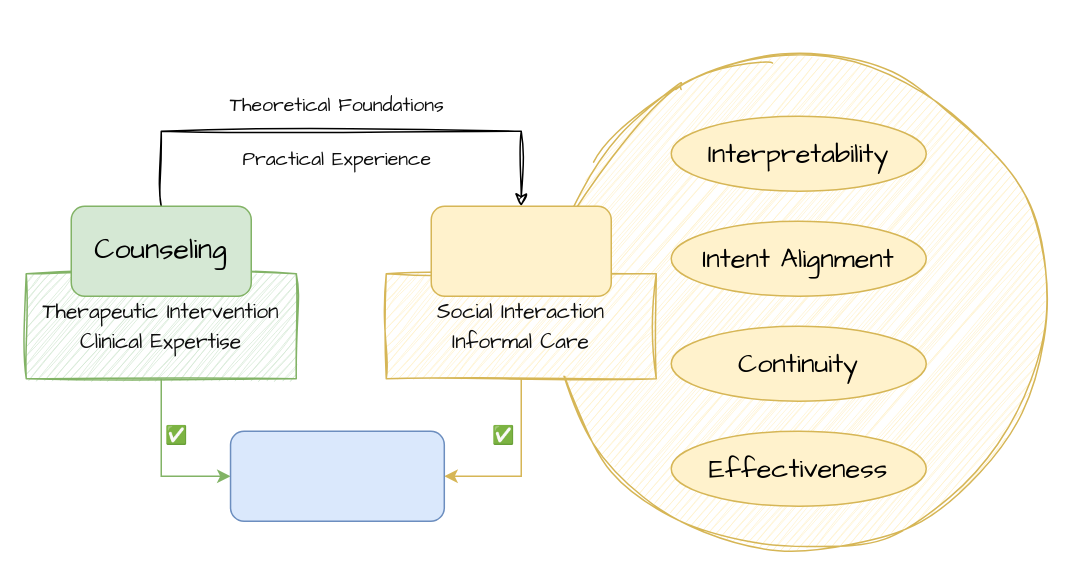
This 1073x578 diagram has some shape labels left out. Each missing label, with the centre of its shape:
"Emotional Support" belongs at [520,250].
"Mental Health" belongs at [336,475].
